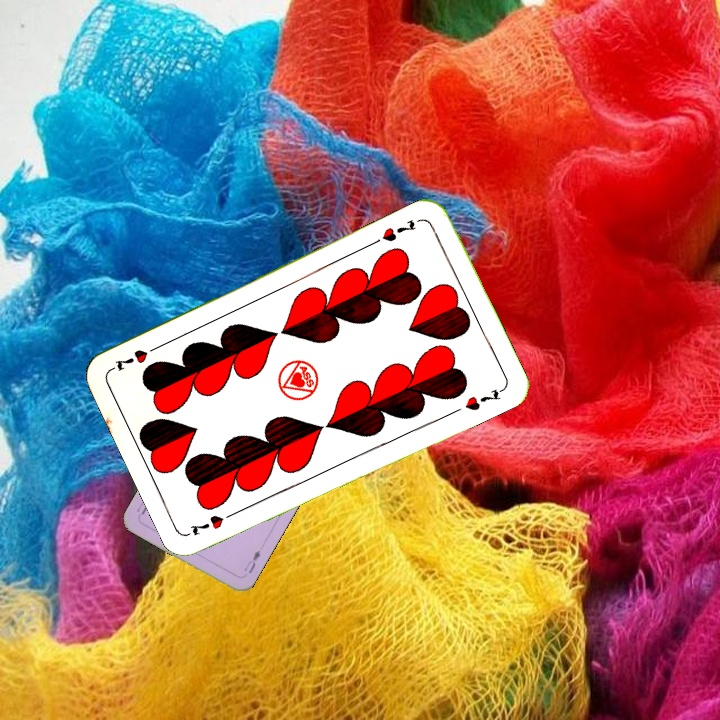EU: (240, 546, 263, 576)
H7: (185, 506, 241, 538), (378, 216, 419, 245)
